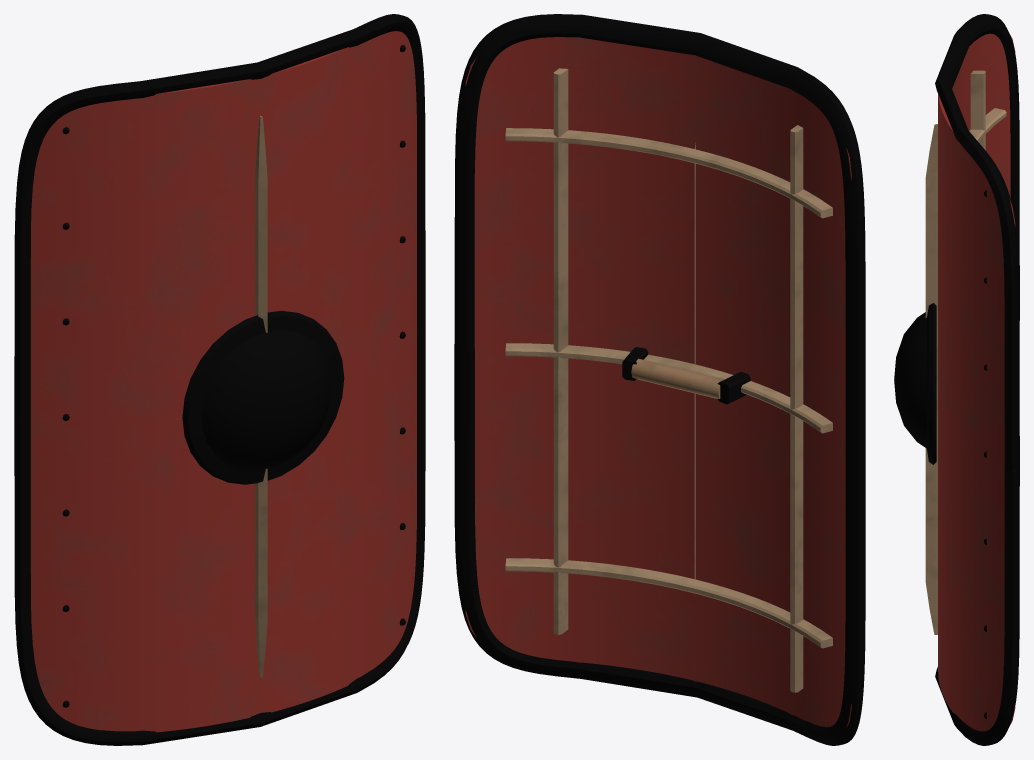
File: Player_Shield.fbx
The picture shows the model from 3 angles, left to right: view 1: azimuth 30°, elevation 25°; view 2: azimuth 150°, elevation 25°; view 3: azimuth 270°, elevation 25°; orthographic projection. The views are drawn at different scales.
Parts seen in each view (by area): view 1: Player_Shield; view 2: Player_Shield; view 3: Player_Shield.
Part boxes in pixels (box(x1,y1,x2,y2)): Player_Shield: box(14, 14, 425, 745); Player_Shield: box(454, 14, 865, 745); Player_Shield: box(894, 14, 1019, 745).
Size of the model in its own units: 0.66 by 1.02 by 0.192.
1 material, 1 textured.
